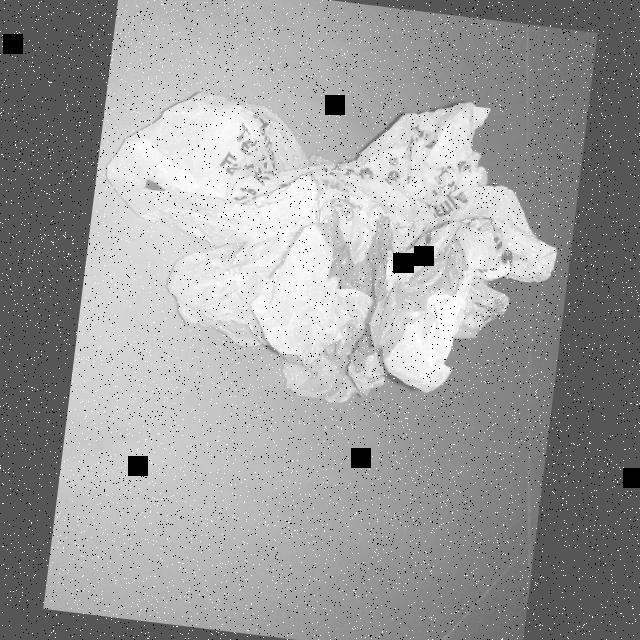plastic_bag: (72, 53, 578, 435)
